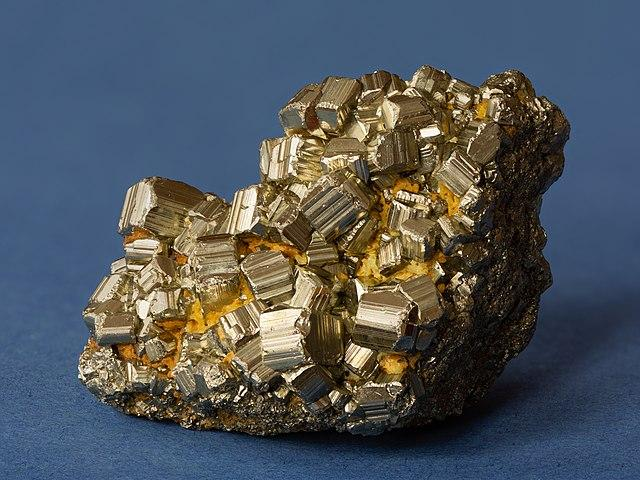pyrite: (68, 63, 582, 442)
